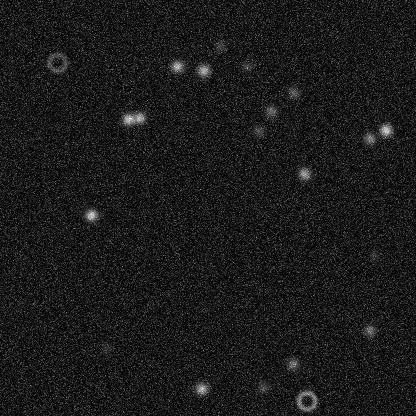Ring: (294, 388, 318, 412), (45, 50, 69, 74)
Spot: (377, 122, 393, 138), (238, 58, 254, 74), (296, 165, 312, 181), (131, 109, 147, 125), (195, 62, 211, 78), (366, 247, 382, 263), (361, 130, 377, 146), (284, 355, 300, 371), (193, 380, 209, 396), (212, 38, 228, 54), (250, 122, 266, 138), (120, 111, 136, 127), (361, 322, 377, 338), (262, 103, 278, 119), (169, 58, 185, 74), (285, 84, 301, 100), (98, 340, 114, 356), (255, 379, 271, 395), (83, 207, 99, 223)
